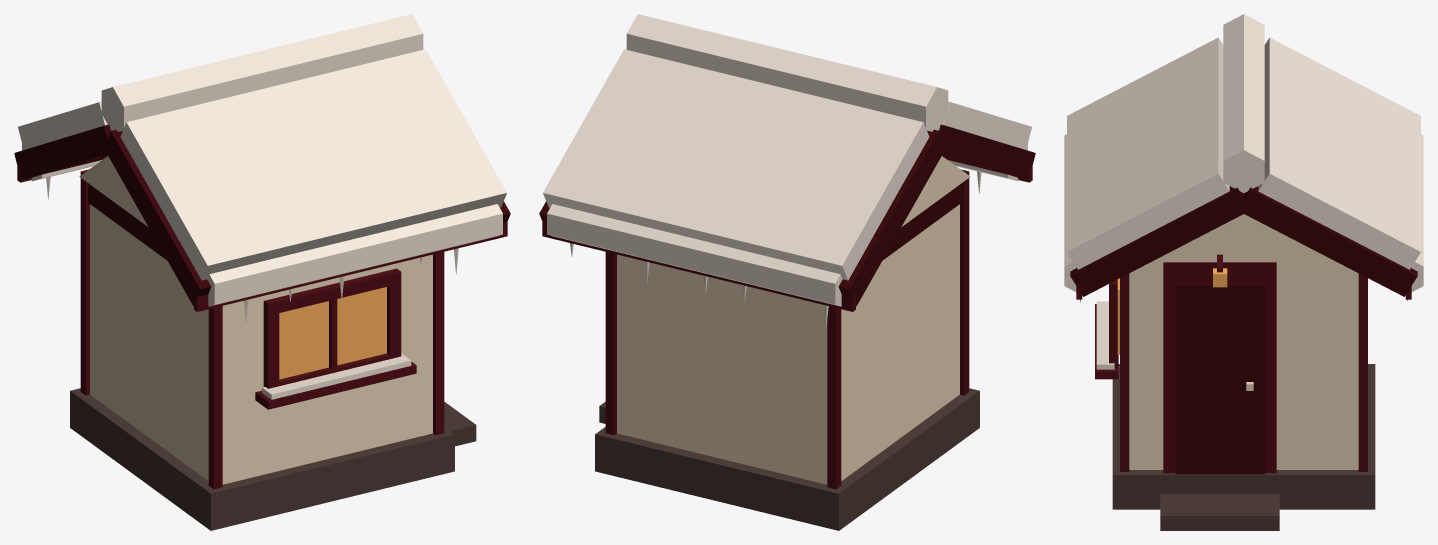
File: rs_barrier_hut.glb
The picture shows the model from 3 angles, left to right: view 1: azimuth 30°, elevation 25°; view 2: azimuth 150°, elevation 25°; view 3: azimuth 270°, elevation 25°; orthographic projection. The views are drawn at different scales.
Visible parts, largest first — view 1: barrier_hut; view 2: barrier_hut; view 3: barrier_hut.
Part boxes in pixels (left/top/right/bottom): barrier_hut: left=14, top=14, right=510, bottom=530; barrier_hut: left=539, top=14, right=1035, bottom=530; barrier_hut: left=1064, top=14, right=1423, bottom=530.
Bounding box in the file's own units: 2.93 × 3.44 × 3.01.
